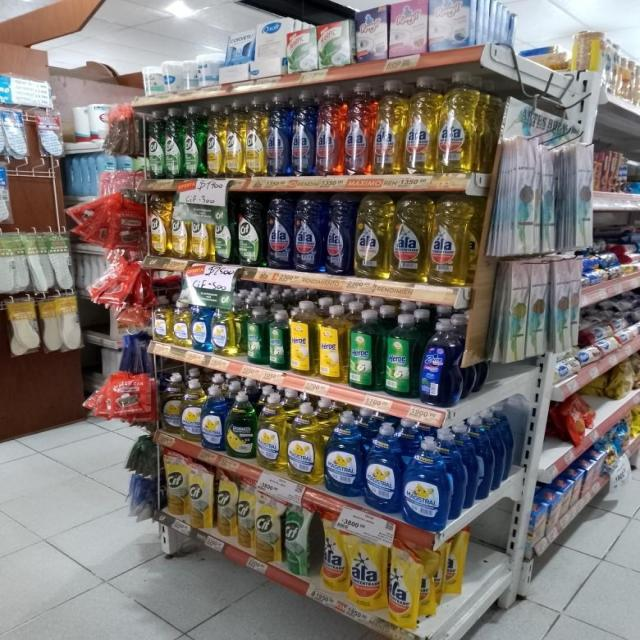ala_conc_amarillo: (438, 72, 481, 175), (429, 193, 476, 286), (391, 193, 427, 283), (373, 80, 404, 176), (406, 76, 436, 175), (355, 193, 389, 280)
ala_conc_azul: (325, 193, 353, 276), (294, 193, 323, 273), (291, 91, 315, 177), (266, 195, 292, 270), (268, 93, 290, 177)
ala_conc_rojo: (316, 85, 344, 177), (344, 82, 371, 176)
ala_sachet_amarillo: (349, 533, 386, 610), (388, 548, 420, 628), (320, 517, 348, 593)
cif_conc_bot_amarilla: (244, 96, 266, 178), (190, 195, 212, 262), (206, 103, 224, 178), (148, 194, 169, 258), (226, 100, 243, 178)
cif_conc_botella_verde: (237, 195, 264, 267), (183, 104, 204, 178), (214, 195, 235, 264), (146, 109, 164, 179), (165, 107, 182, 179)
cif_conc_sachet_amarillo: (254, 494, 281, 563), (237, 482, 253, 551)
cif_conc_sachet_verde: (283, 502, 313, 577)
magistral_con_amarillo: (286, 400, 322, 484), (256, 392, 284, 472), (211, 308, 239, 357), (160, 372, 181, 433), (181, 378, 201, 442), (152, 296, 170, 344), (172, 300, 190, 347)
magistral_con_azul: (402, 435, 450, 529), (364, 422, 400, 512), (325, 410, 362, 497), (202, 383, 225, 451), (191, 305, 210, 352)
